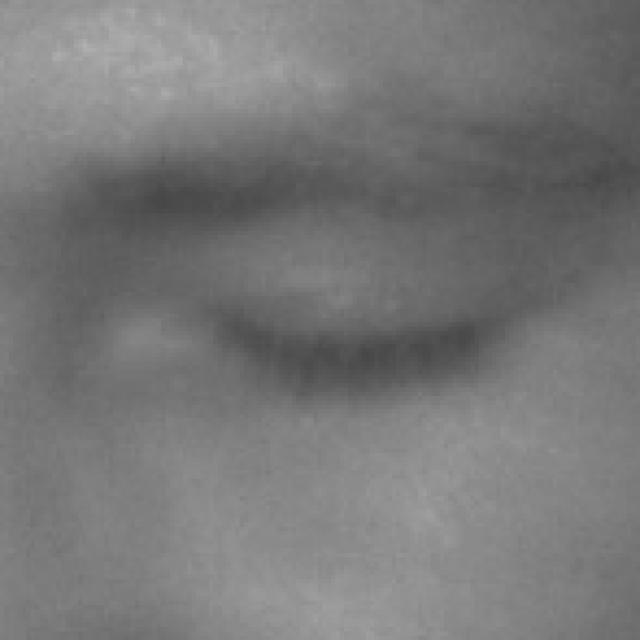Eyeclosed: (218, 206, 477, 519)
